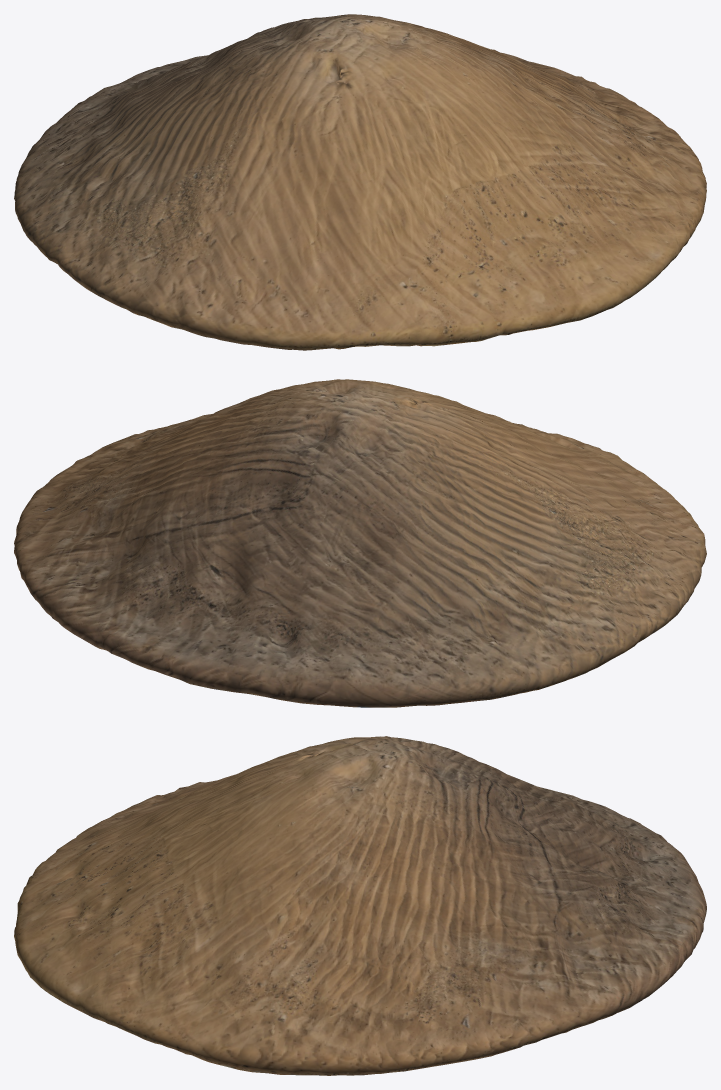
File: Mound_of_dirt_0804152644_refine.fbx
3 views of the same model, one above another, from view 1: azimuth 30°, elevation 25°; view 2: azimuth 150°, elevation 25°; view 3: azimuth 270°, elevation 25° (orthographic).
Visible parts, largest first — view 1: Mesh_0; view 2: Mesh_0; view 3: Mesh_0.
Boxes of the visible parts, box(x1,y1,x2,y2) form: Mesh_0: box(14, 14, 706, 350); Mesh_0: box(14, 379, 706, 707); Mesh_0: box(14, 736, 706, 1075).
Bounding box in the file's own units: 120 × 38.43 × 120.
1 material, 1 textured.
